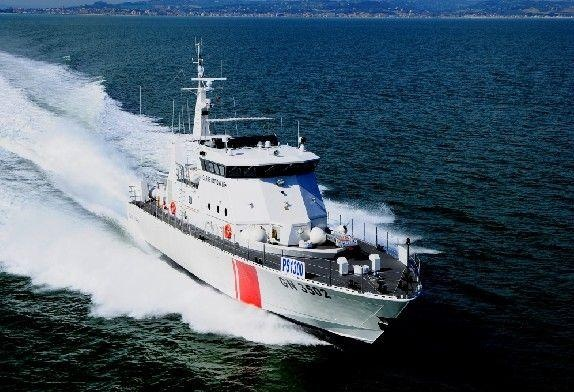warship: (125, 29, 435, 360)
